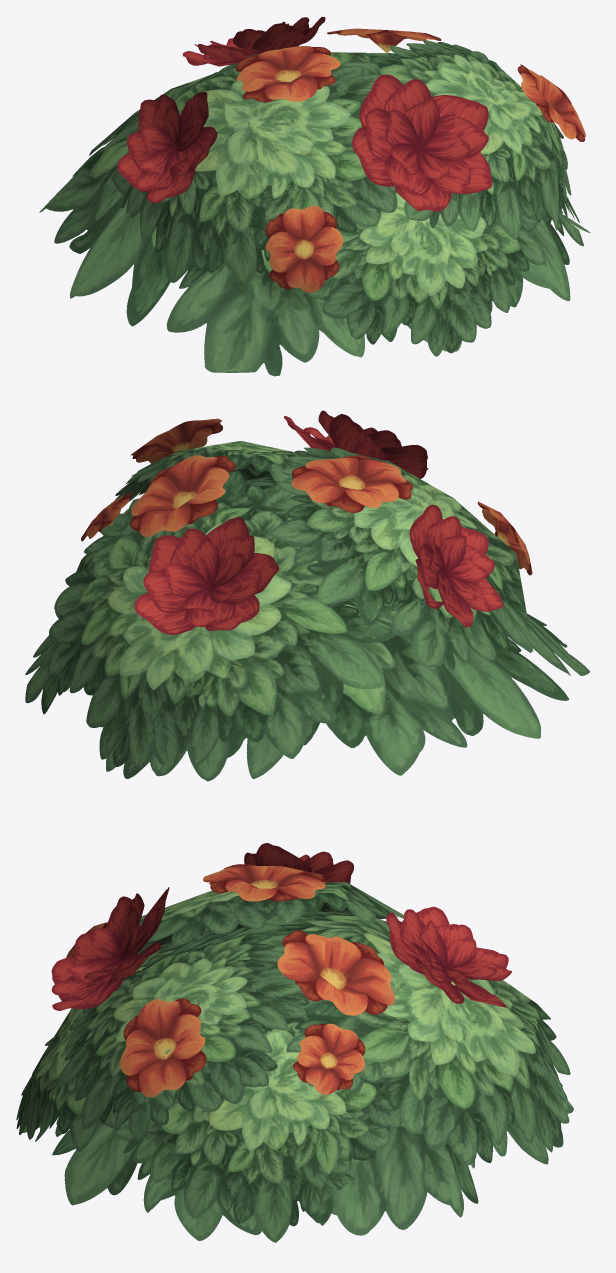
File: F_Bush_03.fbx
The picture shows the model from 3 angles, top to bottom: view 1: azimuth 30°, elevation 25°; view 2: azimuth 150°, elevation 25°; view 3: azimuth 270°, elevation 25°; orthographic projection. The views are drawn at different scales.
Visible parts, largest first — view 1: F_Bush_03; view 2: F_Bush_03; view 3: F_Bush_03.
Boxes of the visible parts, bbox=[...] form: F_Bush_03: bbox=[39, 16, 590, 376]; F_Bush_03: bbox=[25, 410, 589, 781]; F_Bush_03: bbox=[16, 843, 573, 1242].
Bounding box in the file's own units: 386 × 181 × 373.
